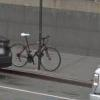Bicycle: (8, 26, 64, 77)
